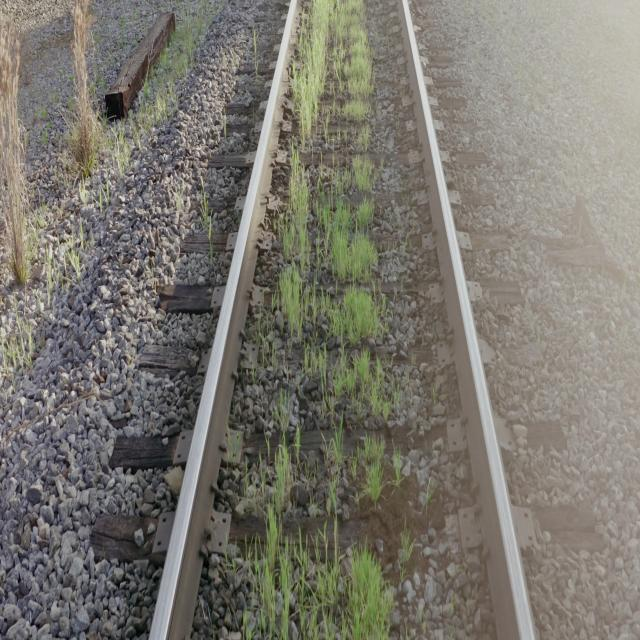Plant: (278, 144, 394, 422), (254, 429, 390, 638), (292, 0, 374, 144), (1, 21, 24, 285), (65, 0, 94, 176), (348, 544, 390, 639), (349, 436, 384, 504), (328, 416, 344, 513)
